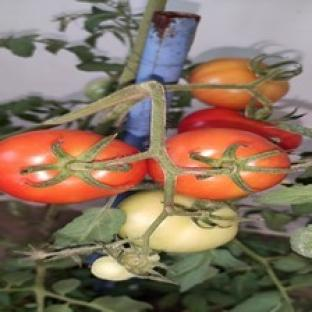Tomato: (0, 130, 146, 203), (166, 129, 291, 200), (179, 108, 302, 150), (150, 207, 238, 253), (189, 59, 259, 84), (91, 257, 135, 281), (84, 80, 111, 100)
